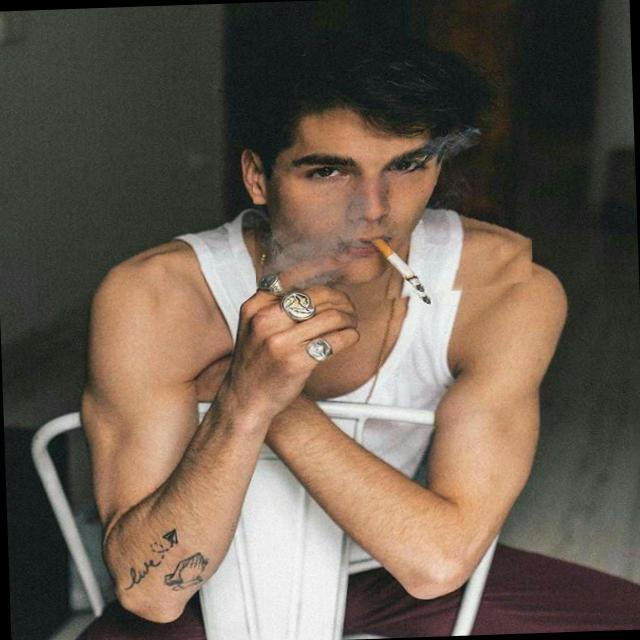cigarette: (368, 238, 454, 322)
